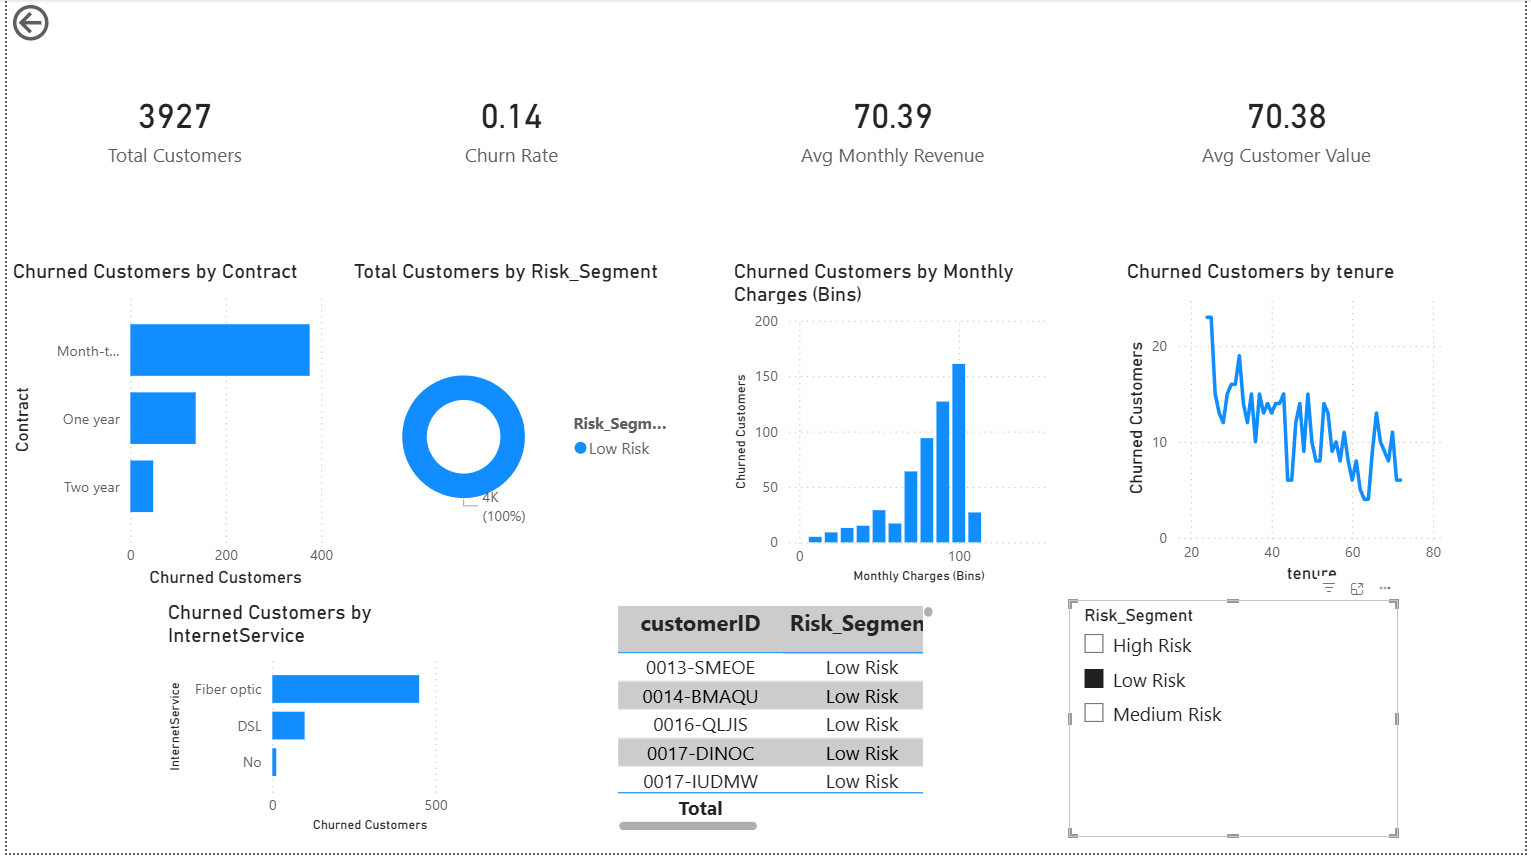

What the dashboard file says about the page in this screenshot:
{"tool":"powerbi","page":{"name":"Page 1","canvas":[1280,720],"ordinal":0},"visuals":[{"type":"card","fields":{"Values":["telco_churn_analysis churn_analysis.Total Customers"]},"box":[16.3,0,251,214.4],"z":3},{"type":"card","fields":{"Values":["telco_churn_analysis churn_analysis.Churn Rate"]},"box":[284.6,0,280.8,214.4],"z":4},{"type":"card","fields":{"Values":["telco_churn_analysis churn_analysis.Avg Monthly Revenue"]},"box":[591.3,0,311.5,214.4],"z":5},{"type":"card","fields":{"Values":["telco_churn_analysis churn_analysis.Avg Customer Value"]},"box":[914.4,0,327.9,214.4],"z":6},{"type":"clusteredBarChart","fields":{"Category":["telco_churn_analysis churn_analysis.Contract"],"Y":["telco_churn_analysis churn_analysis.Churned Customers"]},"box":[0,219.2,279.8,280.8],"z":7},{"type":"donutChart","fields":{"Category":["telco_churn_analysis churn_analysis.Risk_Segment"],"Y":["telco_churn_analysis churn_analysis.Total Customers"]},"box":[287.5,219.2,277.9,280.8],"z":8},{"type":"lineStackedColumnComboChart","fields":{"Category":["telco_churn_analysis churn_analysis.Monthly Charges (Bins)"],"Y":["telco_churn_analysis churn_analysis.Churned Customers"]},"box":[607.7,219.2,277.9,277.9],"z":9},{"type":"lineChart","fields":{"Category":["telco_churn_analysis churn_analysis.tenure"],"Y":["telco_churn_analysis churn_analysis.Churned Customers"]},"box":[939.4,219.2,277.9,277.9],"z":10},{"type":"barChart","fields":{"Category":["telco_churn_analysis churn_analysis.InternetService"],"Y":["telco_churn_analysis churn_analysis.Churned Customers"]},"box":[130.8,506.7,273.1,200],"z":11},{"type":"tableEx","fields":{"Values":["telco_churn_analysis churn_analysis.customerID","telco_churn_analysis churn_analysis.Risk_Segment","Sum(telco_churn_analysis churn_analysis.MonthlyCharges)","telco_churn_analysis churn_analysis.Churn"]},"box":[509.6,506.7,276.9,200],"z":12},{"type":"actionButton","box":[0,0,100,40],"z":13},{"type":"slicer","fields":{"Values":["telco_churn_analysis churn_analysis.Risk_Segment"]},"box":[895.2,506.7,277.9,200],"z":14}]}

Visuals, with their boxes in screenshot pixels (x1, y1, x2, y2), scaled from the page's 1280x720 canvas onto the 1531x856 screenshot:
card - telco_churn_analysis churn_analysis.Total Customers: bbox(19, 0, 320, 255)
card - telco_churn_analysis churn_analysis.Churn Rate: bbox(340, 0, 676, 255)
card - telco_churn_analysis churn_analysis.Avg Monthly Revenue: bbox(707, 0, 1080, 255)
card - telco_churn_analysis churn_analysis.Avg Customer Value: bbox(1094, 0, 1486, 255)
clusteredBarChart - telco_churn_analysis churn_analysis.Contract x telco_churn_analysis churn_analysis.Churned Customers: bbox(0, 261, 335, 594)
donutChart - telco_churn_analysis churn_analysis.Risk_Segment x telco_churn_analysis churn_analysis.Total Customers: bbox(344, 261, 676, 594)
lineStackedColumnComboChart - telco_churn_analysis churn_analysis.Monthly Charges (Bins) x telco_churn_analysis churn_analysis.Churned Customers: bbox(727, 261, 1059, 591)
lineChart - telco_churn_analysis churn_analysis.tenure x telco_churn_analysis churn_analysis.Churned Customers: bbox(1124, 261, 1456, 591)
barChart - telco_churn_analysis churn_analysis.InternetService x telco_churn_analysis churn_analysis.Churned Customers: bbox(156, 602, 483, 840)
tableEx - telco_churn_analysis churn_analysis.customerID x telco_churn_analysis churn_analysis.Risk_Segment: bbox(610, 602, 941, 840)
actionButton: bbox(0, 0, 120, 48)
slicer - telco_churn_analysis churn_analysis.Risk_Segment: bbox(1071, 602, 1403, 840)
